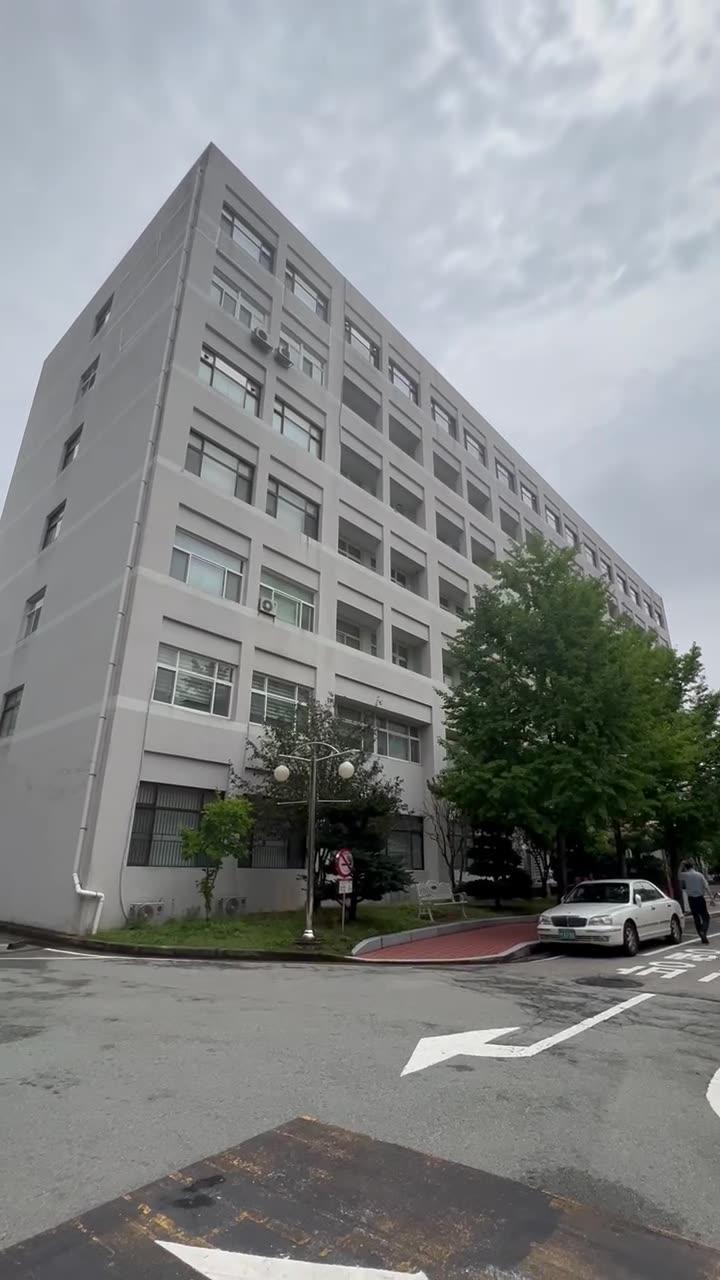building: (16, 132, 438, 730)
